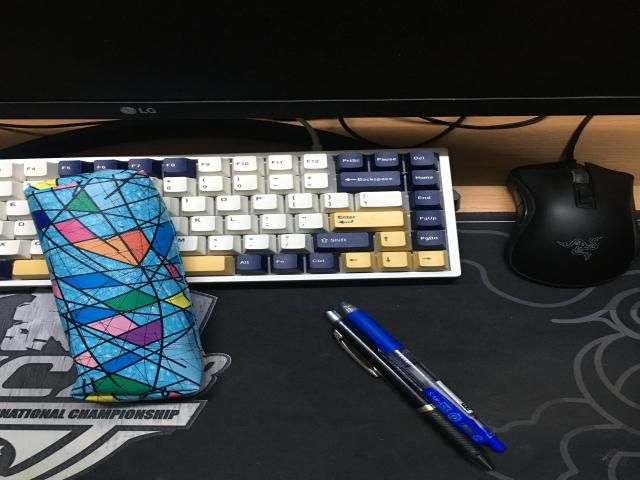Mouse: (507, 116, 637, 287)
Pen: (325, 302, 505, 470)
